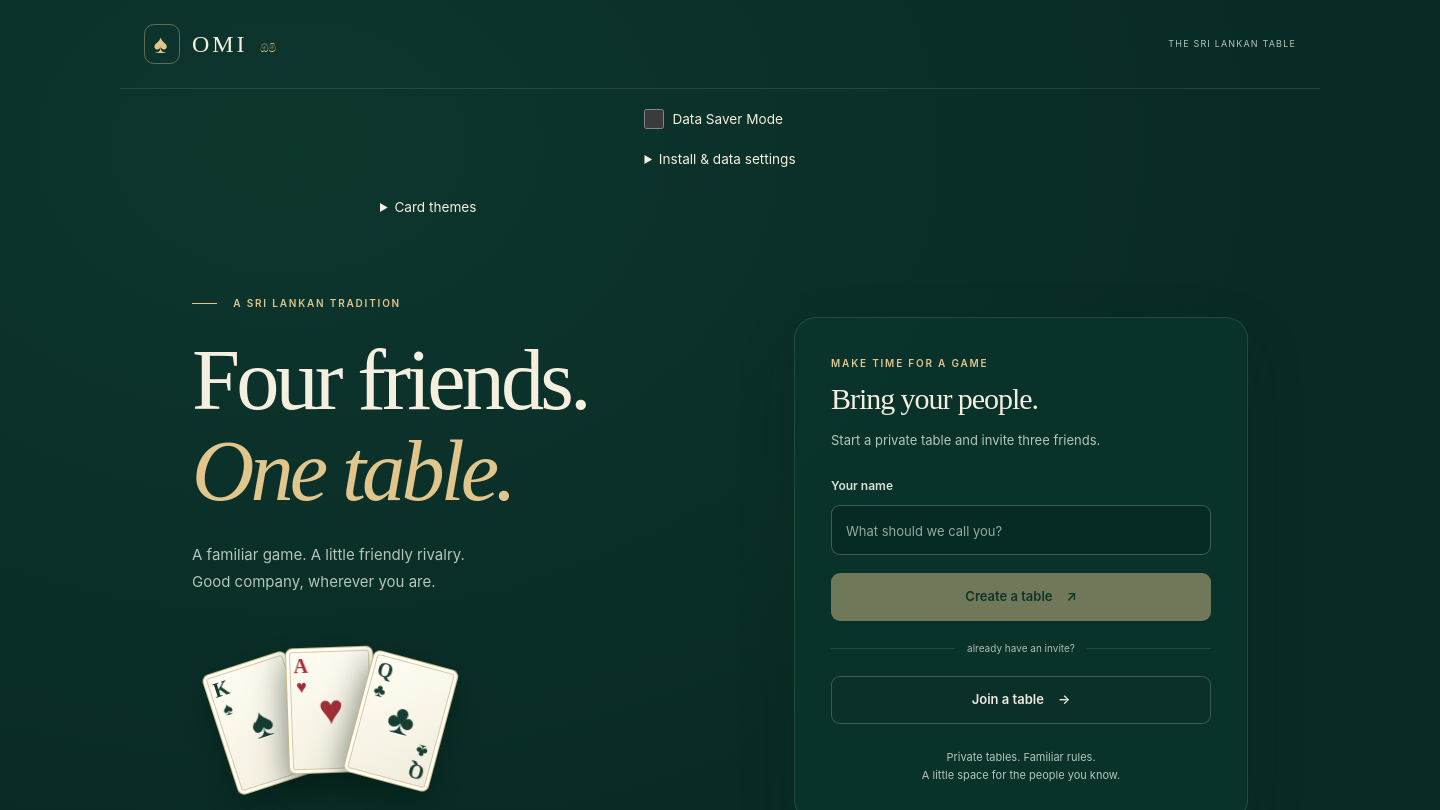
Test: shows accessible create/join forms and consumes a room invite
The image size is (1440, 810).
Expected: the heading "Four friends.One table." is shown, [192, 332, 588, 519]
Expected: the button "Create a table ↗" is disabled, [831, 573, 1211, 621]
Click the button "Join a table →" at (1021, 700), box [831, 676, 1211, 724]
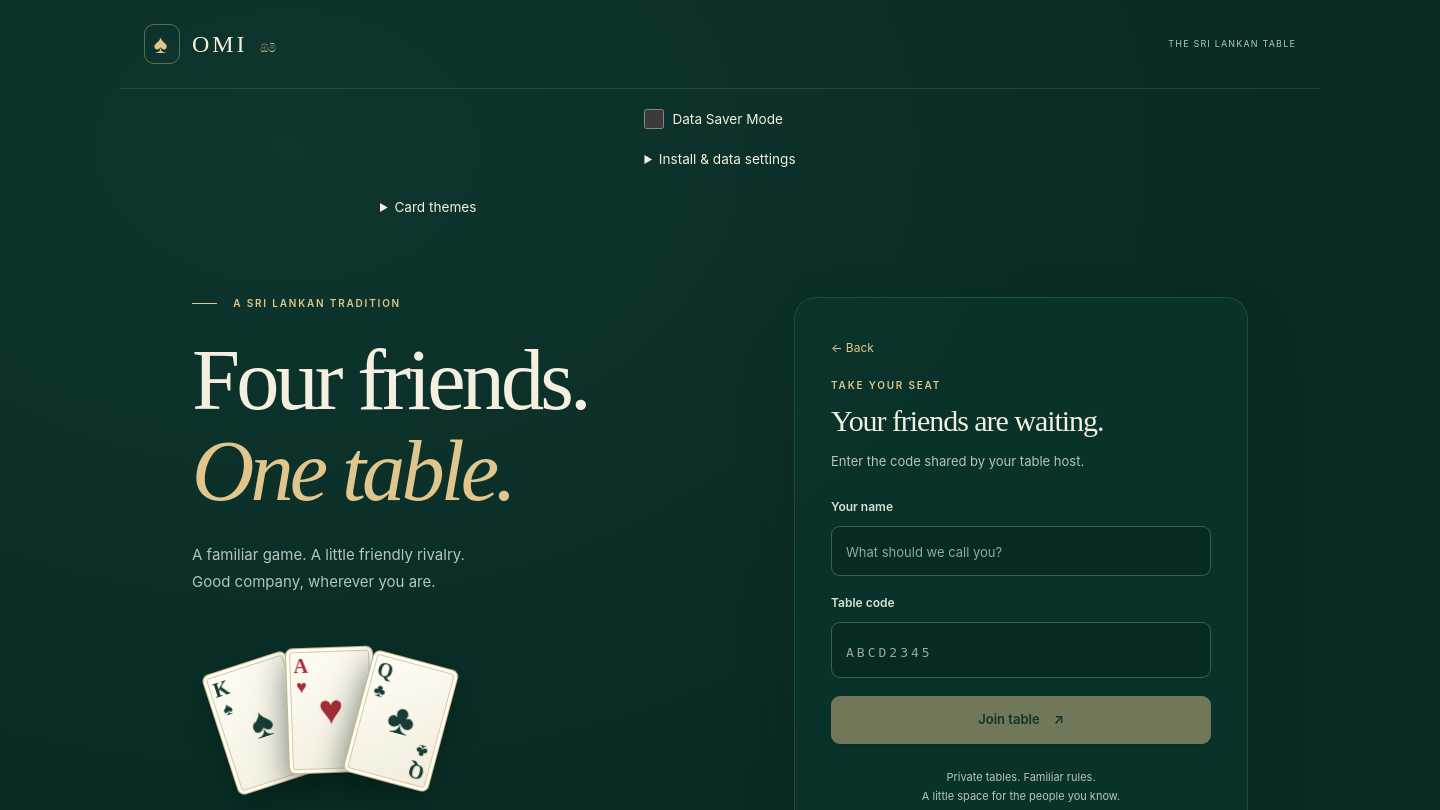
Now the field labelled "Table code" is shown, box [831, 622, 1211, 678]
